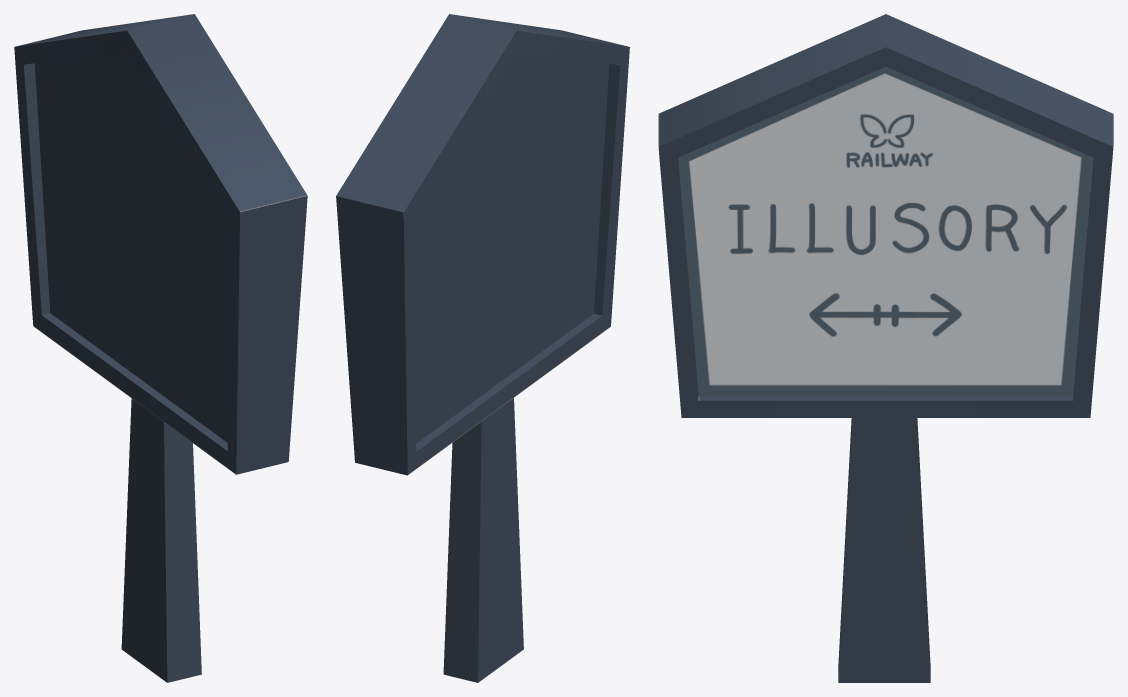
The picture shows the model from 3 angles, left to right: view 1: azimuth 30°, elevation 25°; view 2: azimuth 150°, elevation 25°; view 3: azimuth 270°, elevation 25°; orthographic projection.
Visible parts, largest first — view 1: stop_sign; view 2: stop_sign; view 3: stop_sign.
Boxes of the visible parts, box(x1,y1,x2,y2) form: stop_sign: box(14, 14, 307, 682); stop_sign: box(336, 14, 629, 682); stop_sign: box(658, 14, 1113, 682).
Bounding box in the file's own units: 0.9487 × 8.57 × 5.49.
